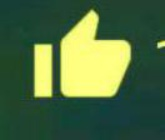ImgButton: (1, 1, 164, 139)
